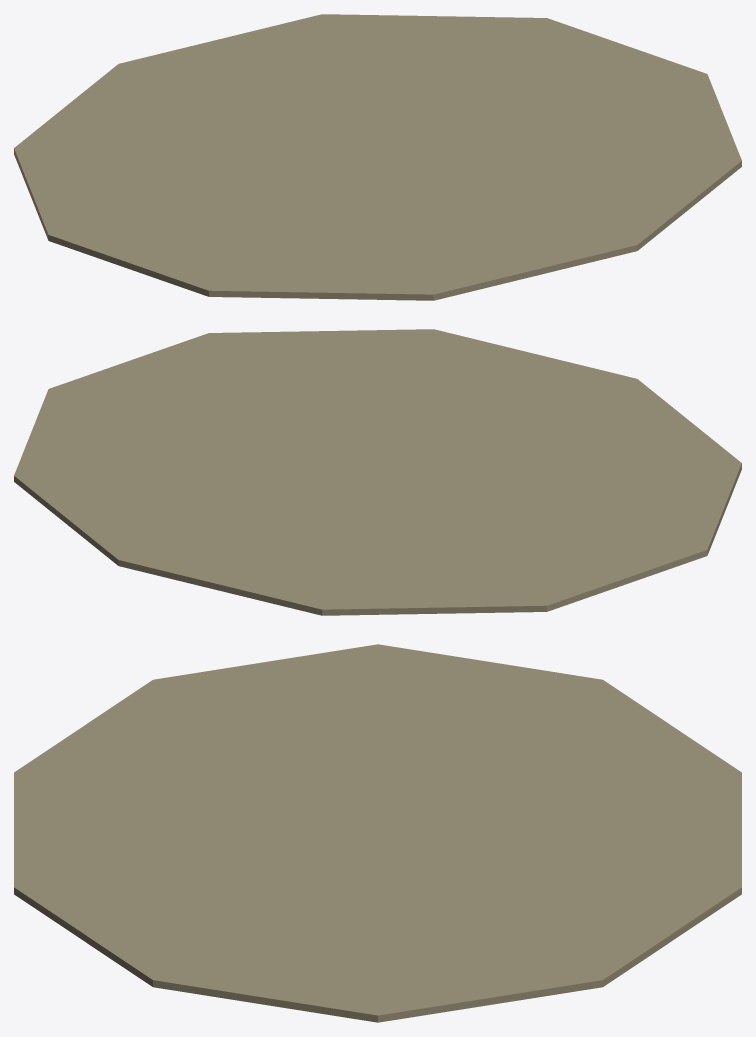
Rendered from lakeLand.fbx.
3 renders of one model, top to bottom at view 1: azimuth 30°, elevation 25°; view 2: azimuth 150°, elevation 25°; view 3: azimuth 270°, elevation 25°, orthographic. The views are drawn at different scales.
Parts seen in each view (by area): view 1: pCylinder4; view 2: pCylinder4; view 3: pCylinder4.
Part boxes in pixels (x1,y1,x2,y2): pCylinder4: [14, 14, 741, 300]; pCylinder4: [14, 329, 741, 615]; pCylinder4: [14, 644, 741, 1022].
Bounding box in the file's own units: 17.32 × 0.1546 × 14.35.
